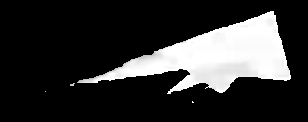Plane: (67, 2, 297, 110)
